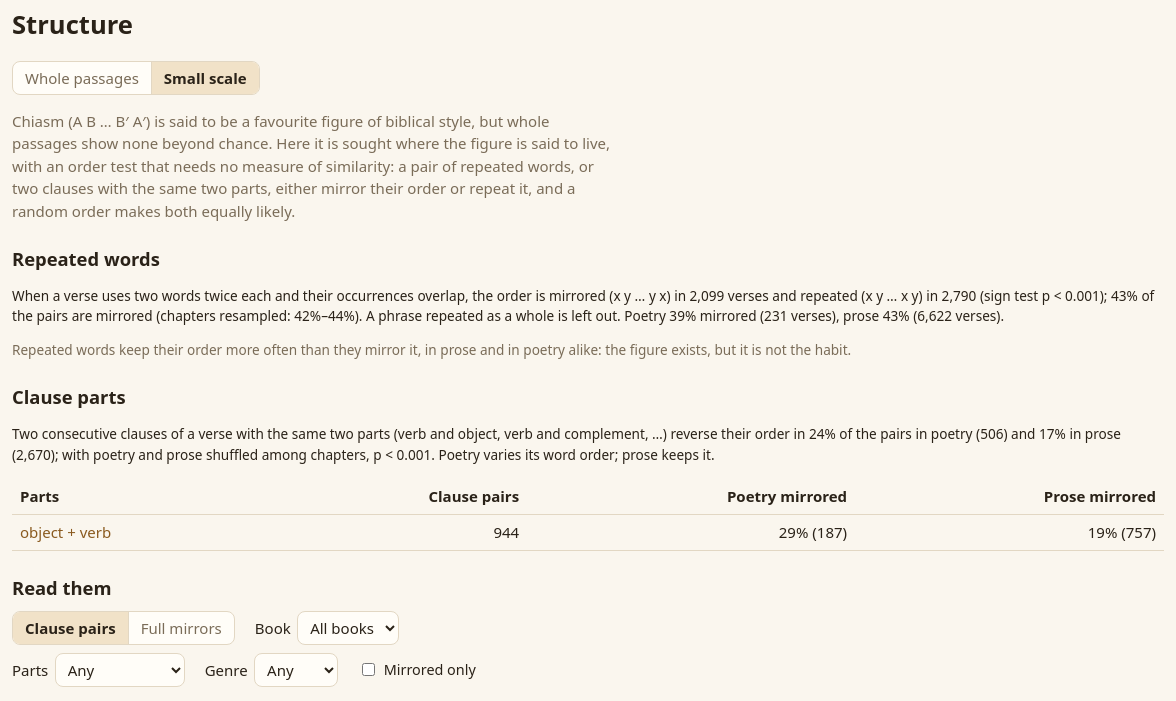
Test: Structure → Small scale › states both order tests and lists clause pairs with their parts marked
Expected: the text "mirrored (x y … y x) in 2,099 verses and repeated (x y … x y) in 2,790" is shown, [12,286,1154,325]
Expected: the text "in 24% of the pairs in poetry (506) and 17% in prose (2,670)" is shown, [12,424,1121,464]
Click the radio button labelled "Full mirrors": (181, 628) [128,612,234,644]
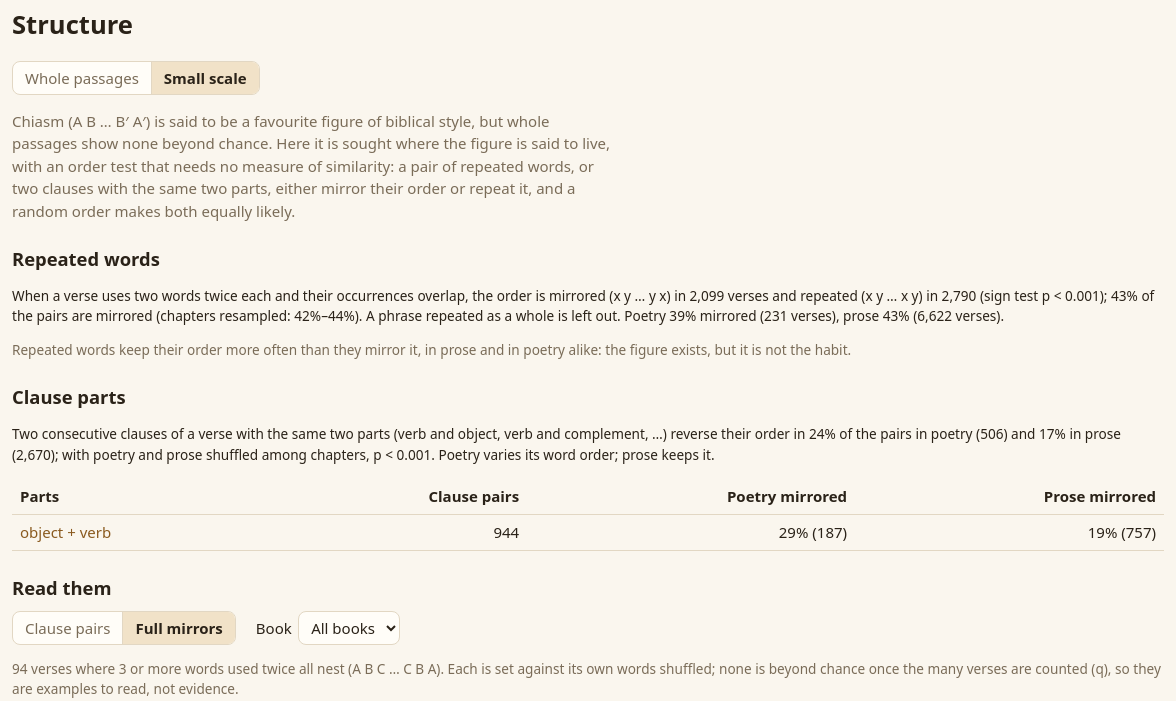
Expected: the text "94 verses where 3 or more words used twice all nest" is shown, [12,658,1161,698]
